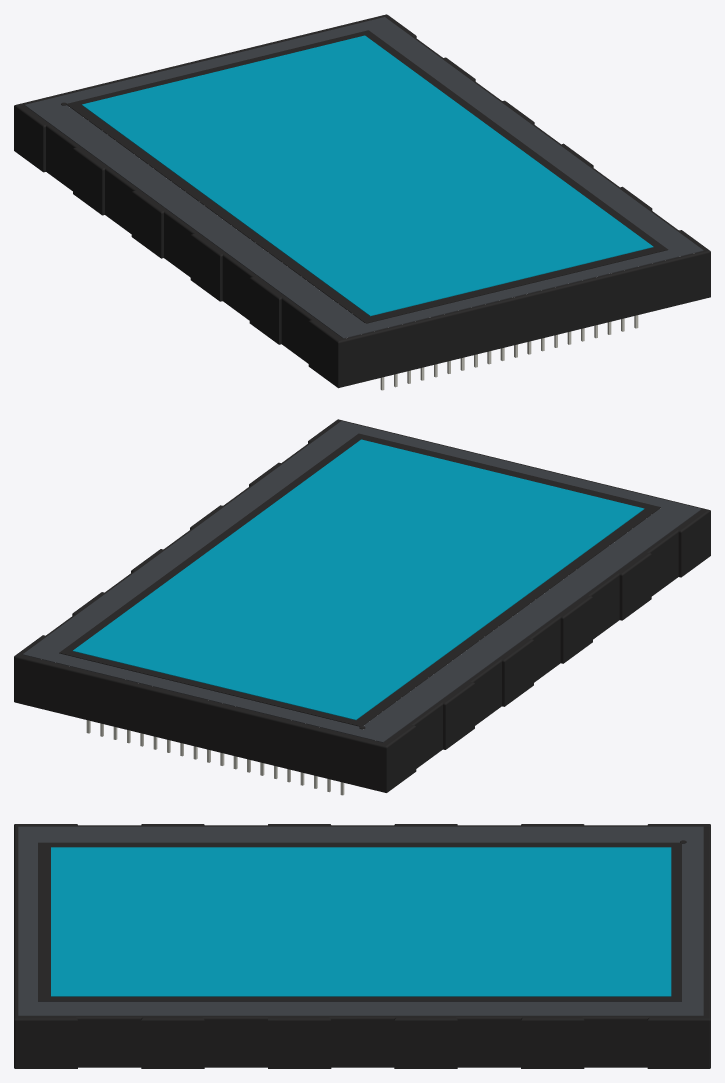
File: kc-ea_ediptft43-xxx.glb
The picture shows the model from 3 angles, top to bottom: view 1: azimuth 30°, elevation 25°; view 2: azimuth 150°, elevation 25°; view 3: azimuth 270°, elevation 25°; orthographic projection. The views are drawn at different scales.
Parts seen in each view (by area): view 1: 0_0.3333333333333333_0.5_0, 0_0_0_0, 0.08333333333333333_0.08333333333333333_0.08333333333333333_, 0.6666666666666666_0.6666666666666666_0.5833333333333334_0.8; view 2: 0_0.3333333333333333_0.5_0, 0_0_0_0, 0.08333333333333333_0.08333333333333333_0.08333333333333333_, 0.6666666666666666_0.6666666666666666_0.5833333333333334_0.8; view 3: 0_0.3333333333333333_0.5_0, 0_0_0_0, 0.08333333333333333_0.08333333333333333_0.08333333333333333_.
Boxes of the visible parts, x1,y1,x2,y2 form: 0_0.3333333333333333_0.5_0: [82, 35, 653, 316]; 0_0_0_0: [14, 14, 710, 388]; 0.08333333333333333_0.08333333333333333_0.08333333333333333_: [24, 17, 703, 338]; 0.6666666666666666_0.6666666666666666_0.5833333333333334_0.8: [380, 315, 638, 390]; 0_0.3333333333333333_0.5_0: [73, 439, 644, 720]; 0_0_0_0: [14, 419, 710, 792]; 0.08333333333333333_0.08333333333333333_0.08333333333333333_: [22, 421, 701, 742]; 0.6666666666666666_0.6666666666666666_0.5833333333333334_0.8: [86, 720, 344, 795]; 0_0.3333333333333333_0.5_0: [51, 847, 671, 996]; 0_0_0_0: [14, 824, 710, 1068]; 0.08333333333333333_0.08333333333333333_0.08333333333333333_: [18, 826, 703, 1015].
Size of the model in its own units: 7.1 by 1.37 by 10.68.
